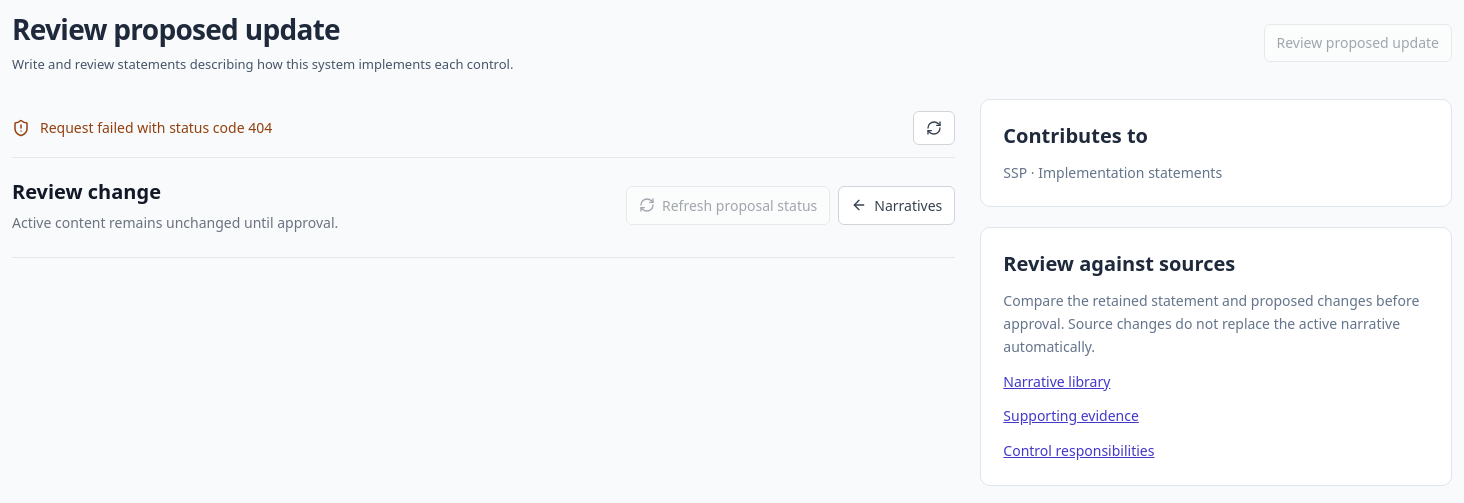
Narratives workspace › distinguishes a failed review request from a valid empty result and supports retry
The image size is (1464, 503).
Expected: the message reads "Request failed with status code 404", x1=40 y1=118 x2=272 y2=137
Expected: the text "No proposed narrative changes." is not shown
Click the button titled "Retry loading": (934, 128) x1=913 y1=110 x2=955 y2=144
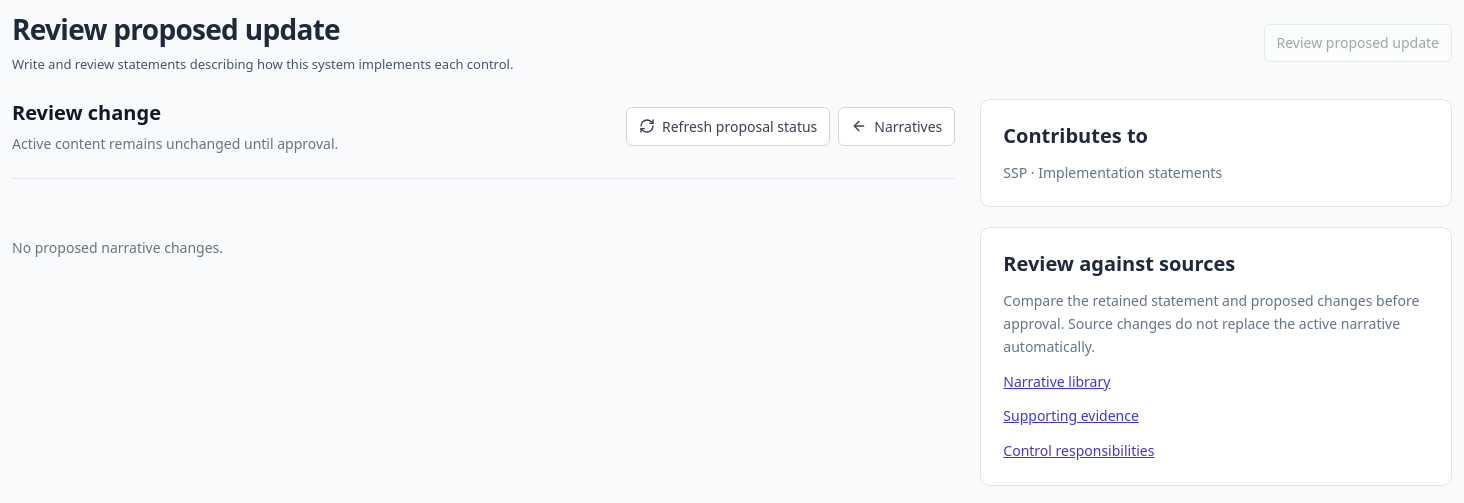
Expected: the text "No proposed narrative changes." is shown, x1=12 y1=238 x2=223 y2=256
Expected: the message "Request failed with status code 404" is gone
